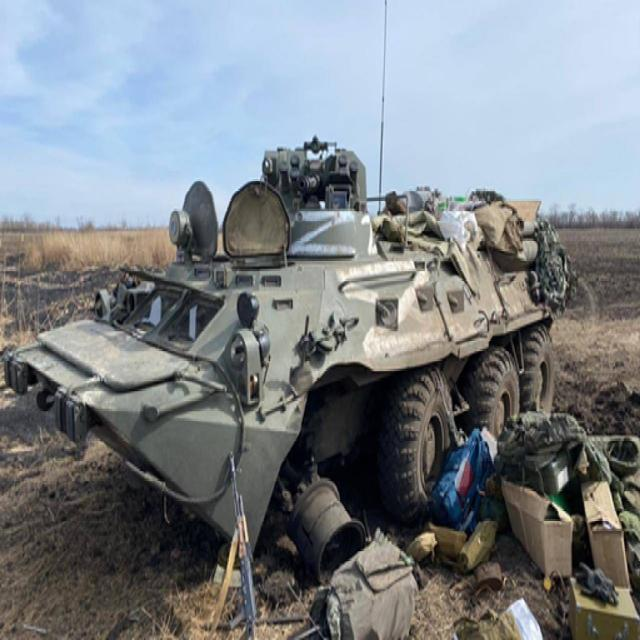APC-IFV: (2, 127, 566, 582)
